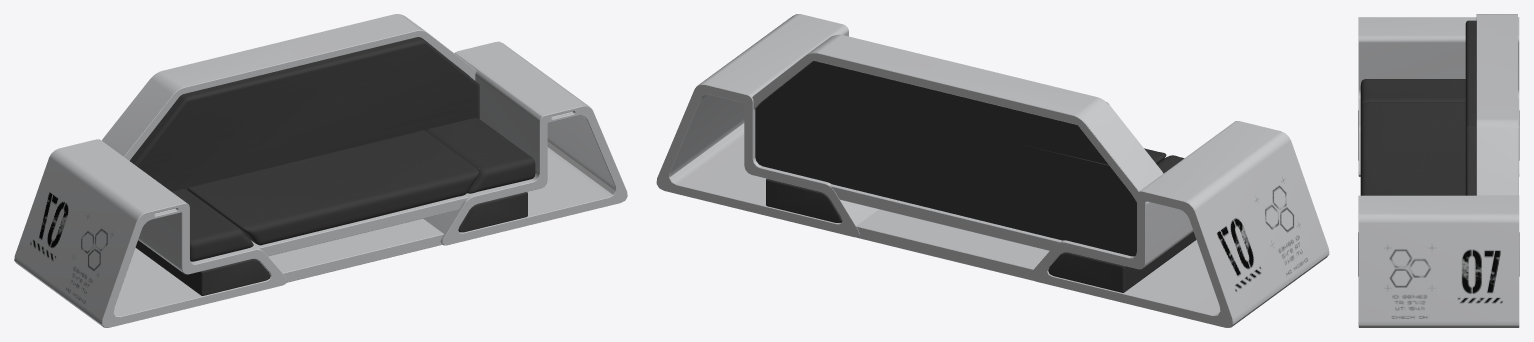
File: ScifiBench.fbx
3 views of the same model, side by side, from view 1: azimuth 30°, elevation 25°; view 2: azimuth 150°, elevation 25°; view 3: azimuth 270°, elevation 25° (orthographic). The views are drawn at different scales.
Parts seen in each view (by area): view 1: object_0; view 2: object_0; view 3: object_0.
Part boxes in pixels (x1,y1,x2,y2): object_0: (14, 14, 627, 327); object_0: (656, 14, 1329, 327); object_0: (1358, 14, 1519, 327).
Size of the model in its own units: 414 by 120 by 121.
